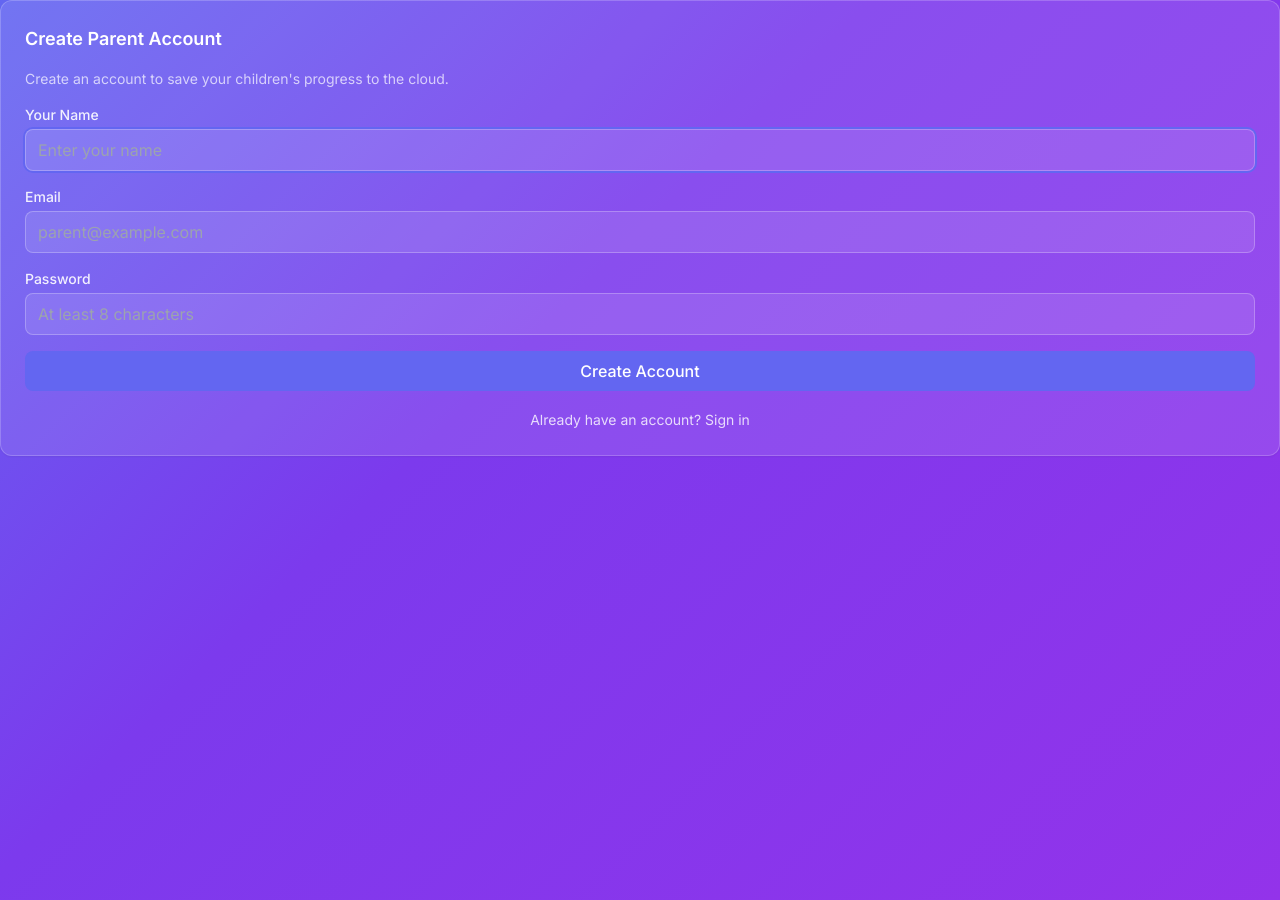
AuthForm › sign up mode › should validate display name in signup mode
Type "test@test.com" into the field labelled "Email" at (640, 232), box [25, 211, 1255, 253]
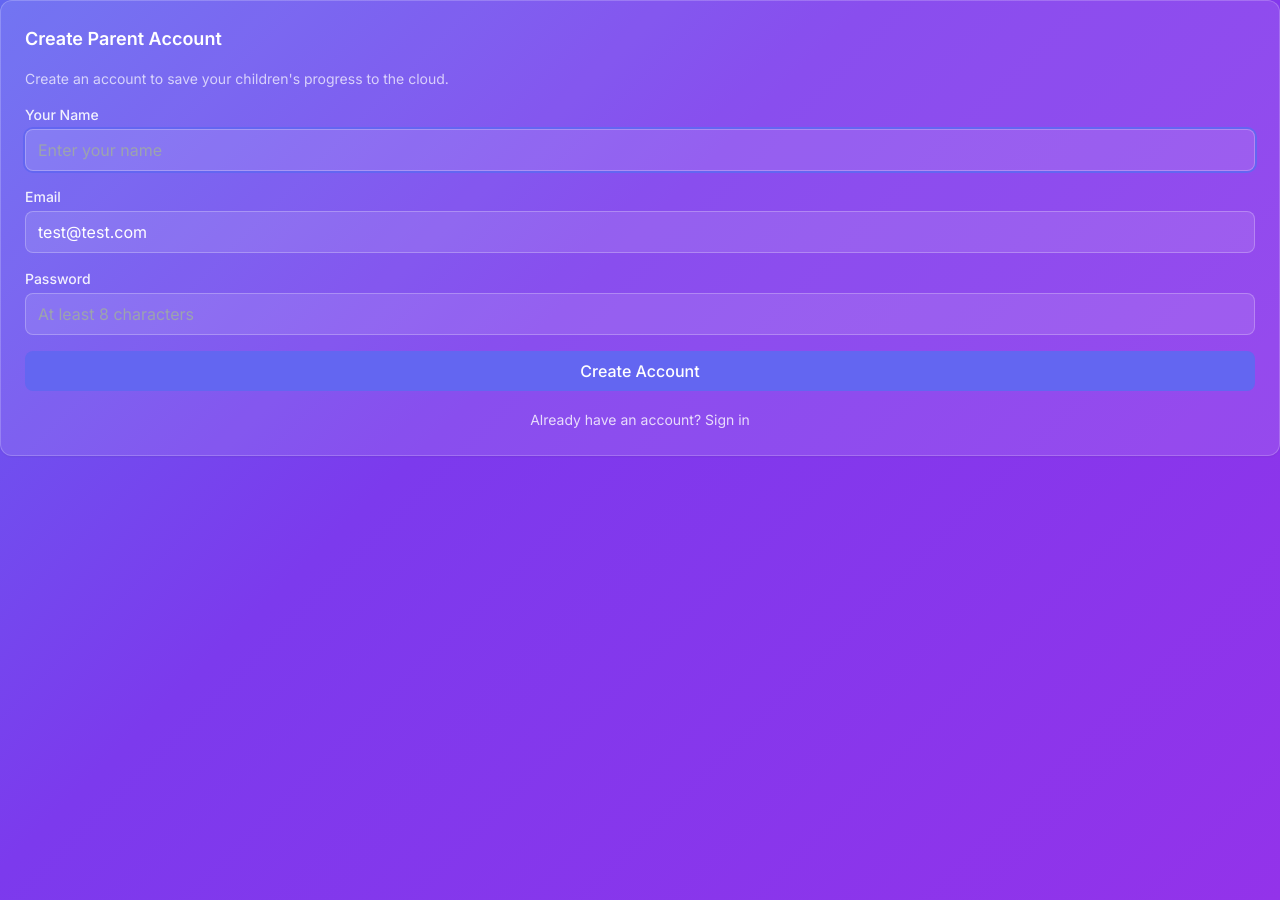
Type "password123" into the password field labelled "Password" at (640, 314), box [25, 293, 1255, 335]
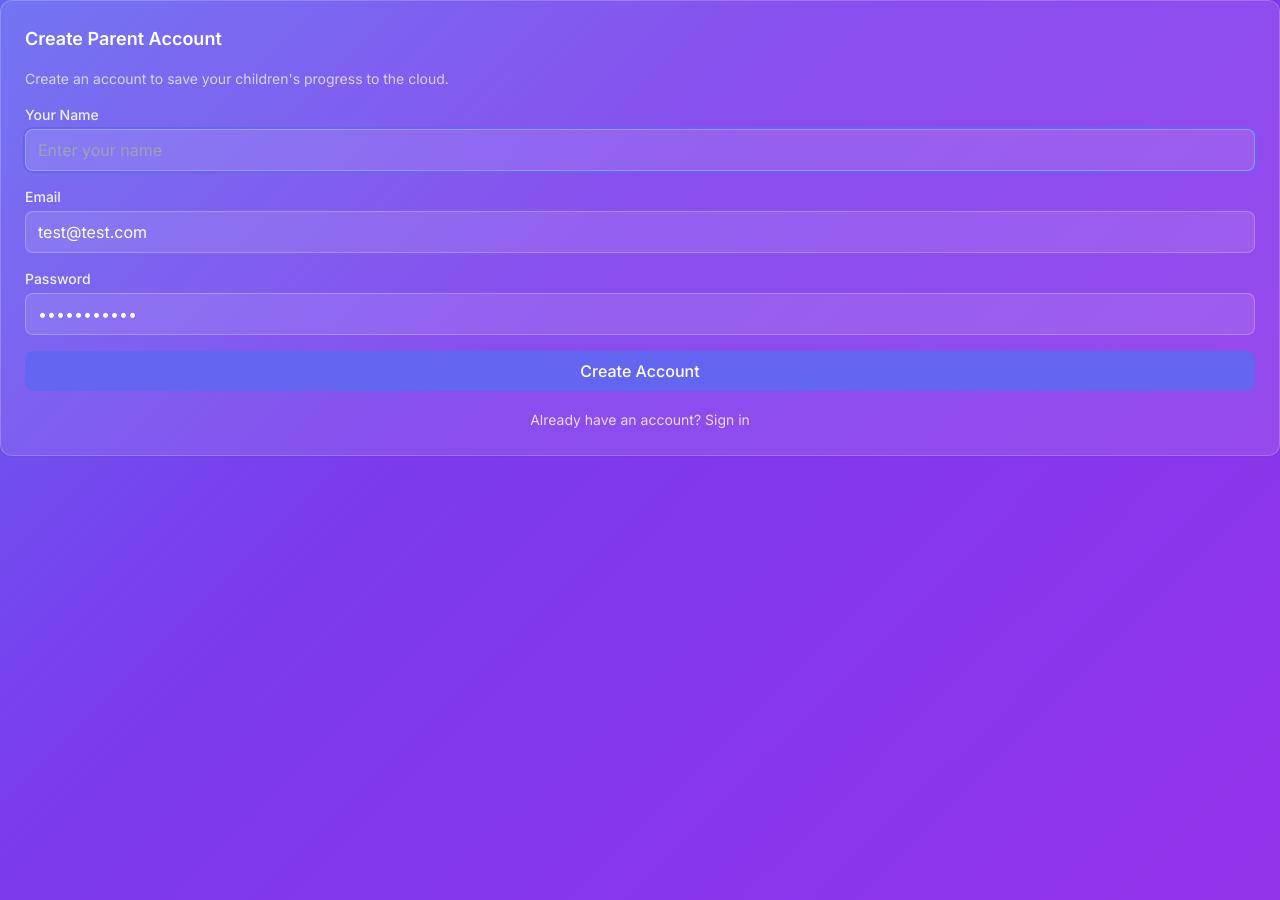
Leave name empty
Click the button "Create Account" at (640, 371), box [25, 351, 1255, 391]
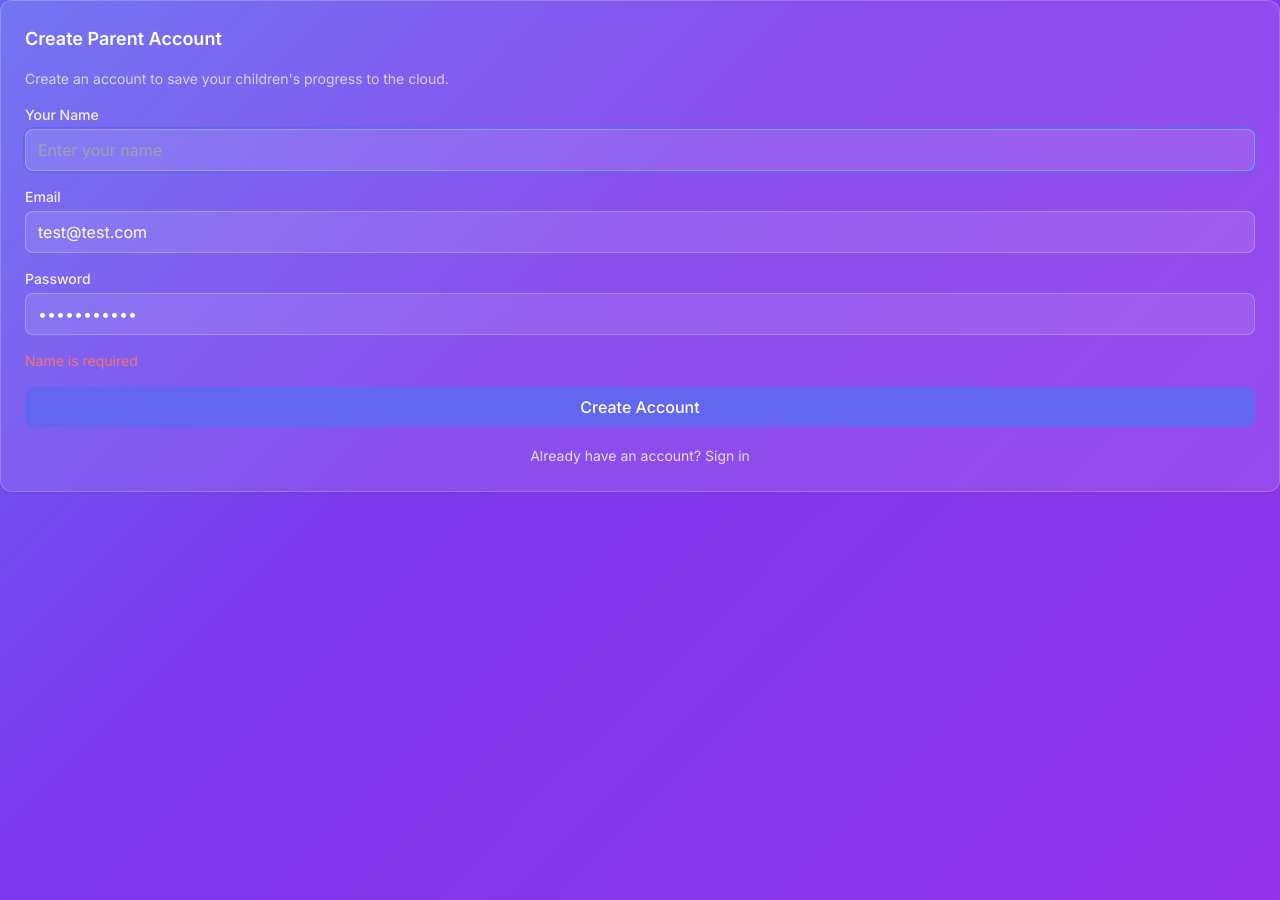
expect the text "Name is required" is shown: met, box [25, 352, 138, 369]
